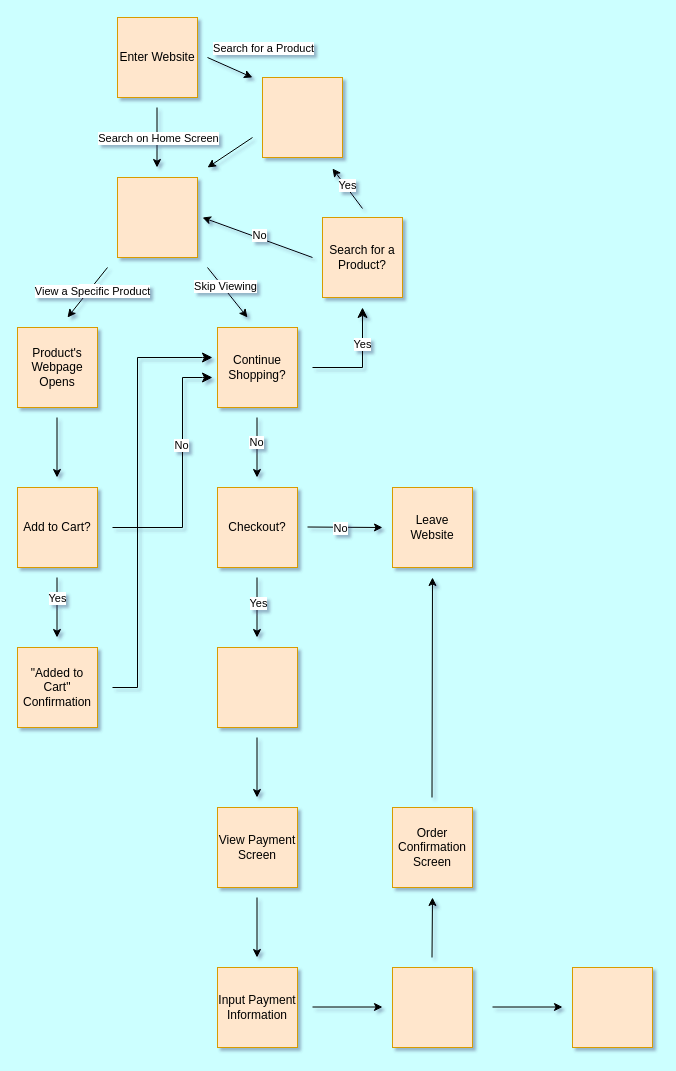
Some shapes in this 676 by 1071 pixel diagram are drawn without their labels. Each missing label, with the centre of its shape:
"Look Over Products" belongs at pixel 157 217.
"Paid" belongs at pixel 432 1007.
"Receive an Email" belongs at pixel 612 1007.
"Search Input" belongs at pixel 302 117.
"View Cart Screen" belongs at pixel 257 687.
